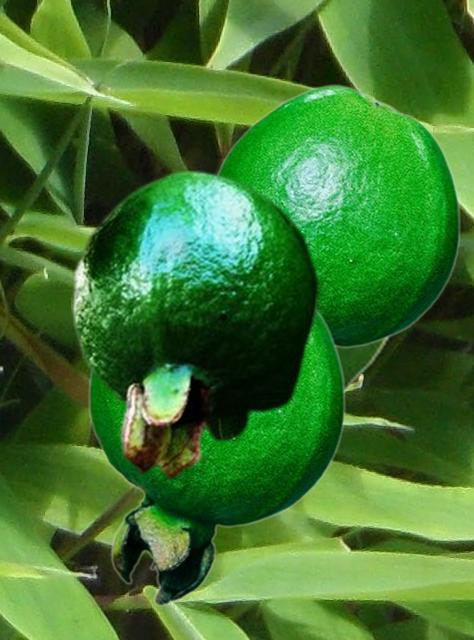guava: (71, 168, 320, 479), (87, 310, 345, 605), (215, 84, 460, 351), (339, 337, 393, 396)
